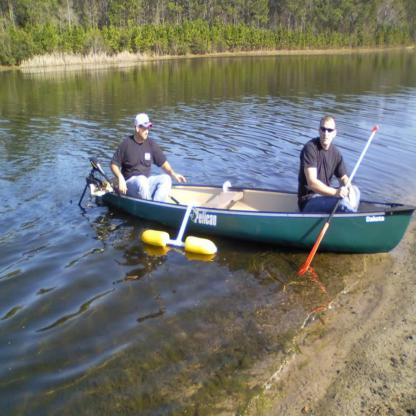face: (320, 118, 334, 146), (140, 121, 149, 140)
